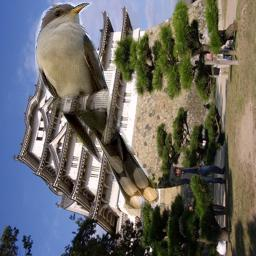Cuckoo: (35, 2, 159, 209)
